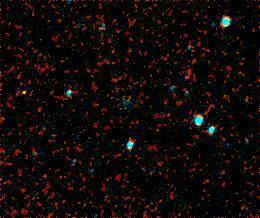star: (11, 78, 41, 108)
